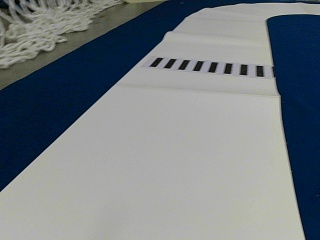crosswalk: (149, 56, 270, 76)
